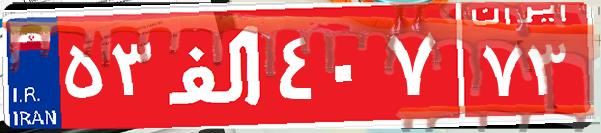0: (330, 28, 385, 110)
3: (110, 28, 158, 105), (525, 38, 570, 115)
4: (273, 28, 330, 110)
5: (57, 26, 110, 107)
7: (385, 28, 445, 110), (475, 38, 525, 113)
الف: (158, 15, 273, 115)
